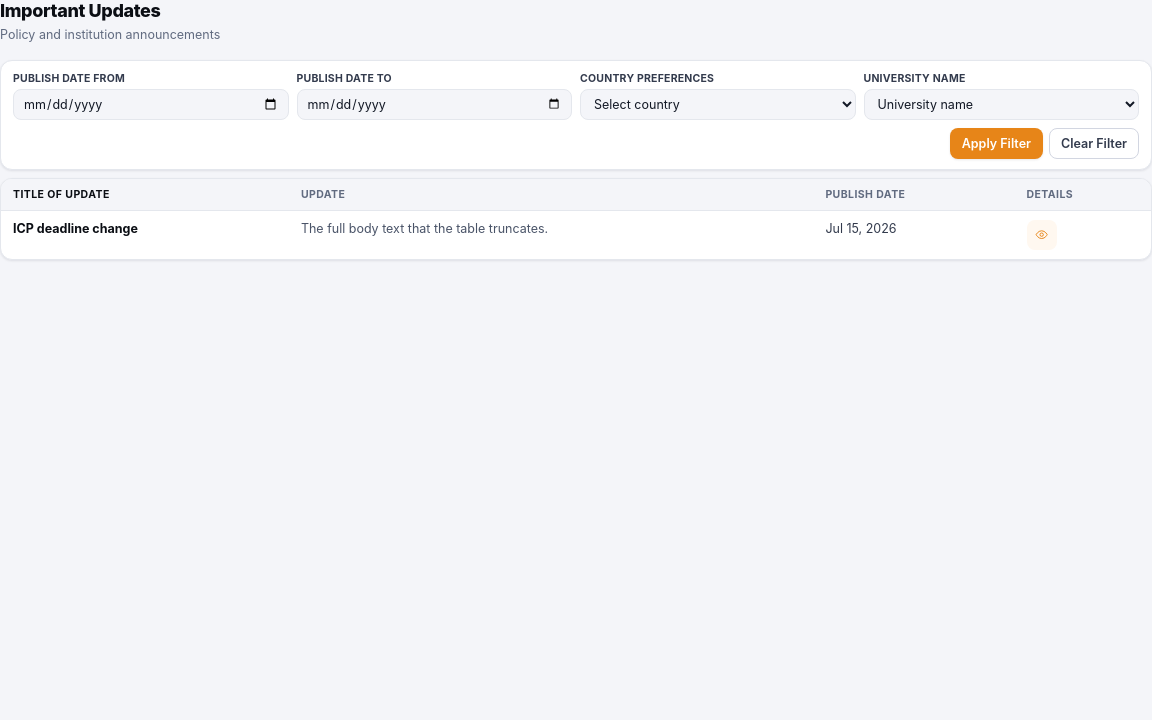
Test: reference screens › ImportantUpdates opens the detail modal from the eye action
This screenshot has width=1152, height=720.
Click the button named "View ICP deadline change".
click(1042, 235)  # box [1026, 220, 1056, 250]
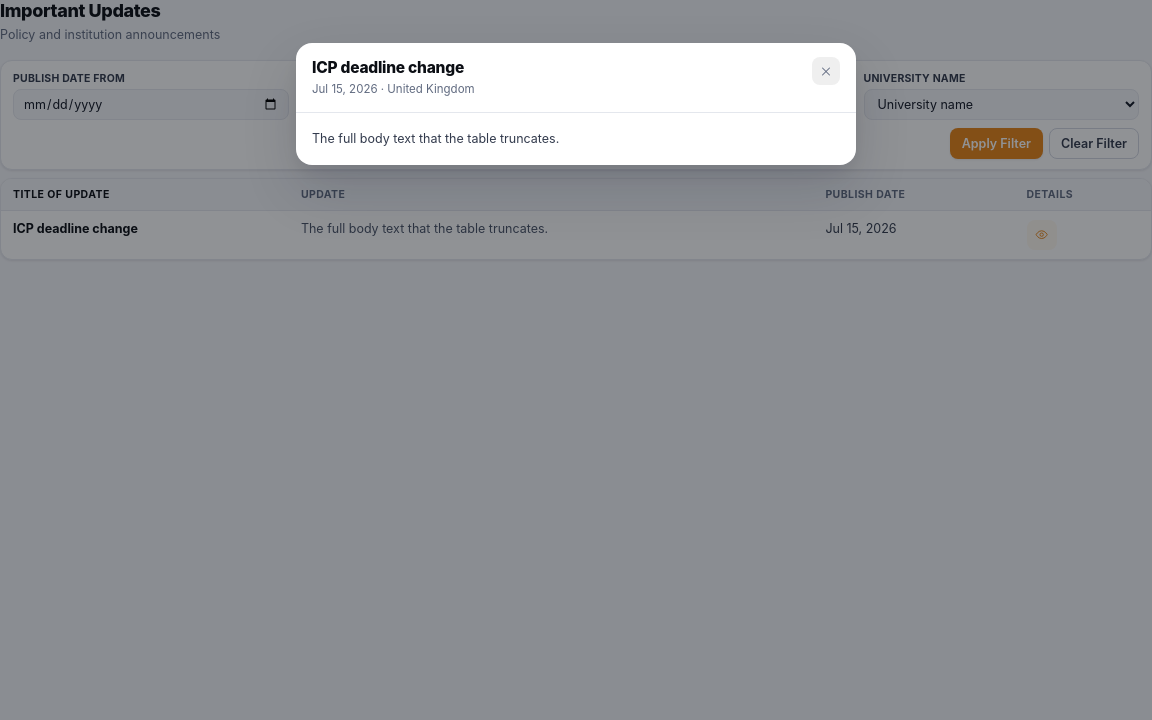
Expected: the dialog is shown, [296, 43, 856, 165]
